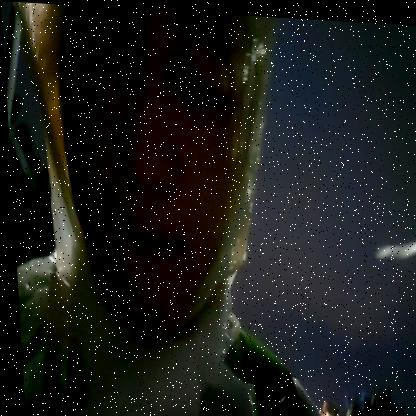streamer: (0, 0, 318, 416)
